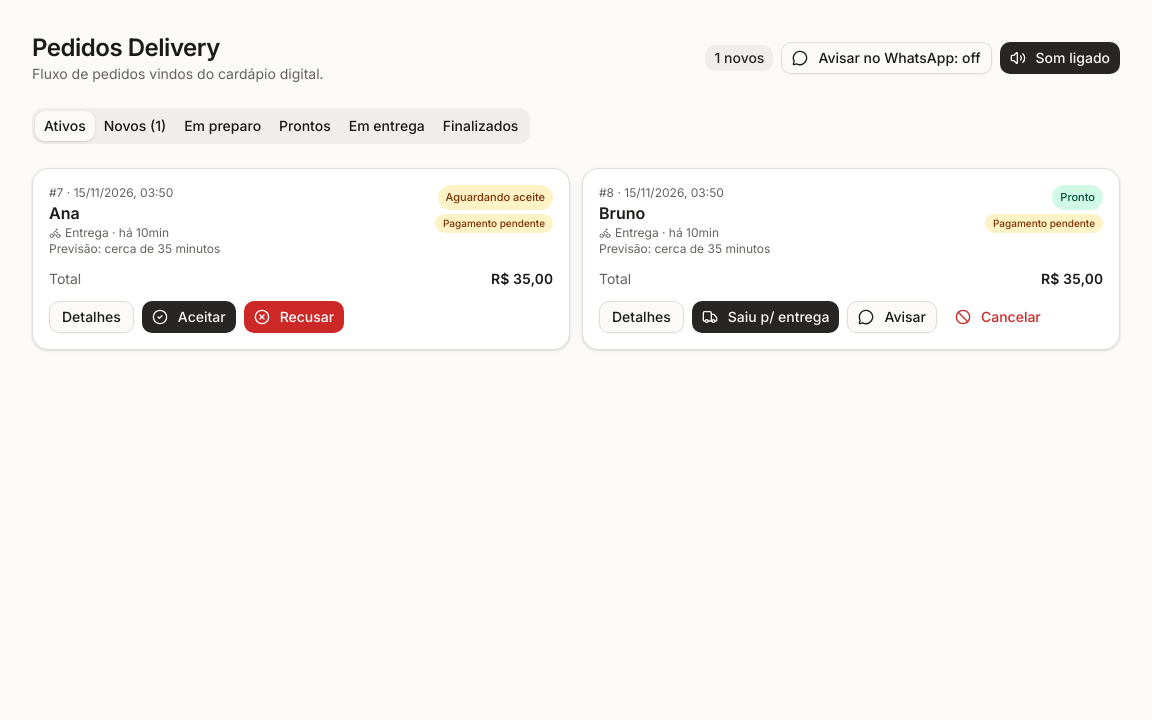
Test: PedidosDelivery › oferece a seleção de entregador em pedidos de entrega
The width and height of the screenshot is (1152, 720).
Expected: the text "Bruno" is shown, [599, 203, 645, 223]
What coordinates should you click on to do the following:
click the button "Detalhes" below "Bruno"
I would click on:
 (641, 317)
Its box is [599, 301, 684, 333].
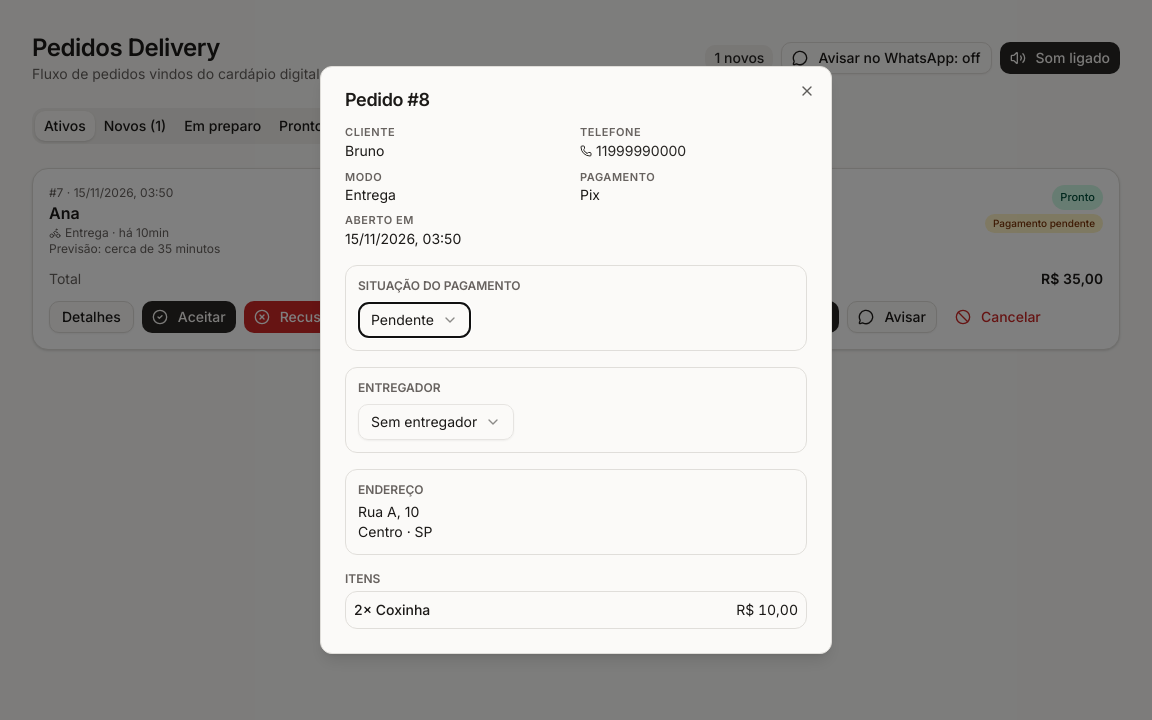
Expected: the text "Entregador" is shown, [358, 380, 440, 395]
Expected: the text "Sem entregador" is shown, [371, 412, 477, 432]
